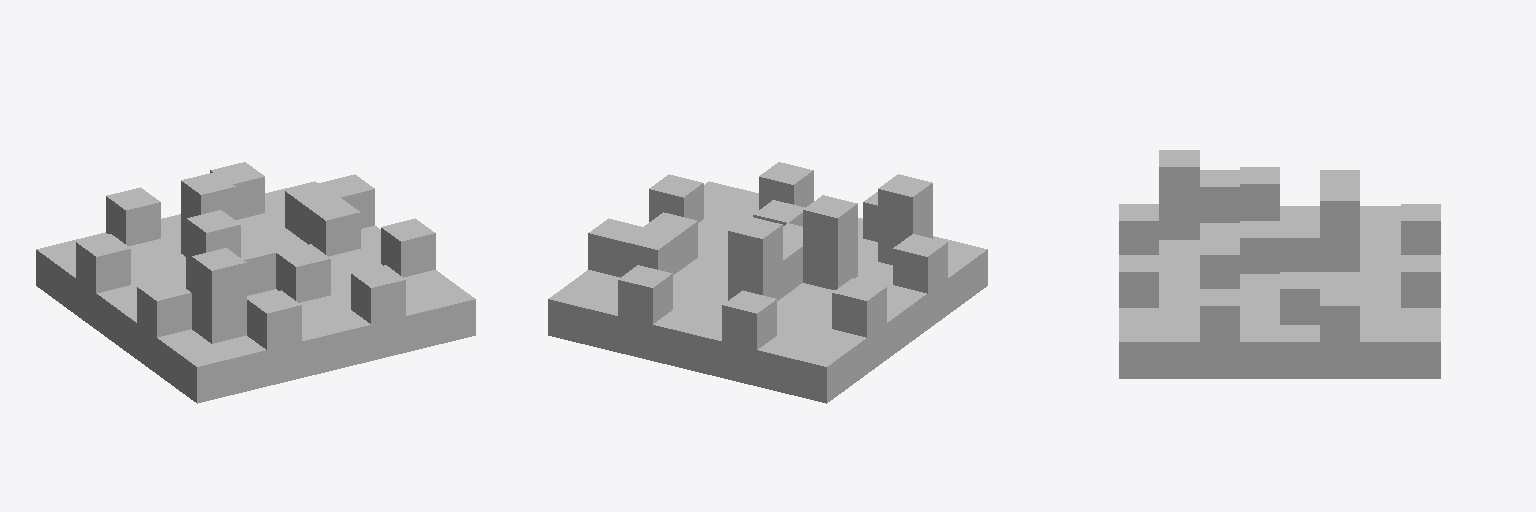
The model's file is NewGrass1.obj.
3 renders of one model, left to right at view 1: azimuth 30°, elevation 25°; view 2: azimuth 150°, elevation 25°; view 3: azimuth 270°, elevation 25°, orthographic.
Visible parts, largest first — view 1: object 1; view 2: object 1; view 3: object 1.
Boxes of the visible parts, <box> form: object 1: <box>36,162,475,403</box>; object 1: <box>548,162,987,403</box>; object 1: <box>1119,150,1440,378</box>.
Size of the model in its own units: 0.8 by 0.3 by 0.8.